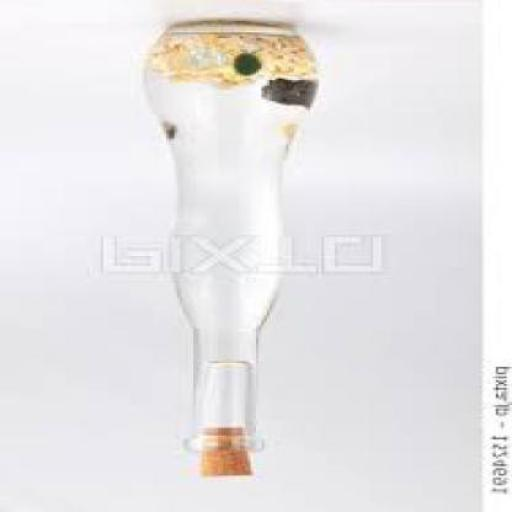glass: (145, 21, 313, 453)
